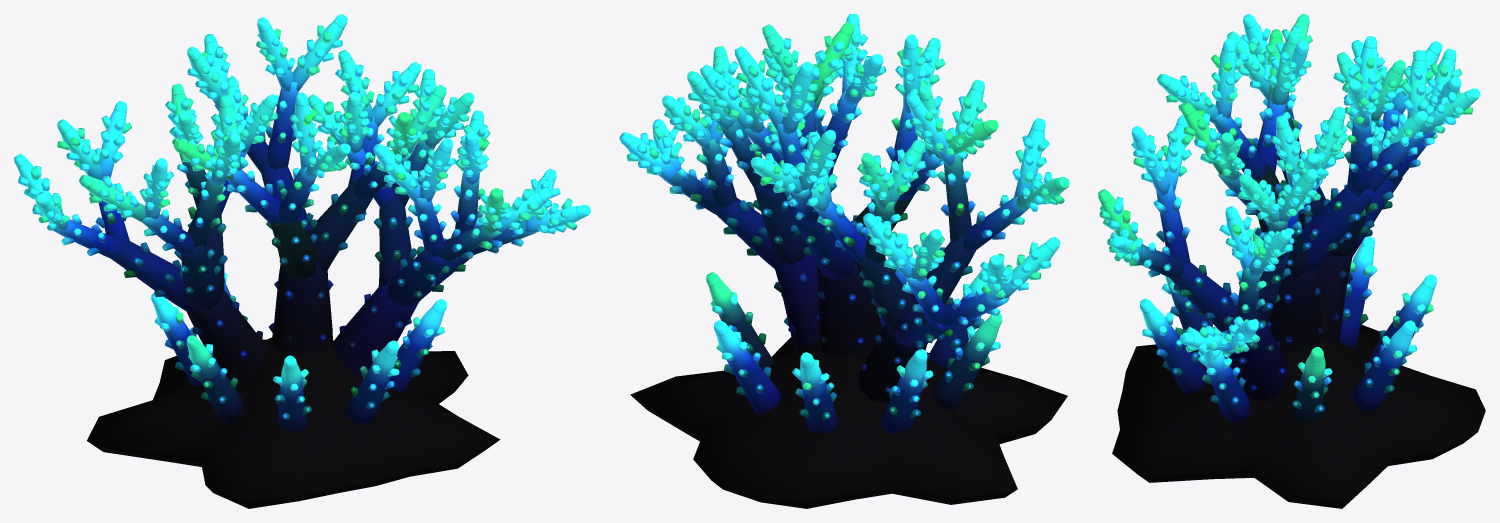
Rendered from coral-acropora-table.glb.
3 renders of one model, left to right at view 1: azimuth 30°, elevation 25°; view 2: azimuth 150°, elevation 25°; view 3: azimuth 270°, elevation 25°, orthographic. The views are drawn at different scales.
Visible parts, largest first — view 1: Coral_Acropora_Table; view 2: Coral_Acropora_Table; view 3: Coral_Acropora_Table.
Part boxes in pixels (x1=…): Coral_Acropora_Table: x1=14, y1=14, x2=590, y2=508; Coral_Acropora_Table: x1=619, y1=14, x2=1069, y2=508; Coral_Acropora_Table: x1=1098, y1=14, x2=1485, y2=508.
Bounding box in the file's own units: 0.223 × 0.1729 × 0.1558.
1 material, 1 textured.
